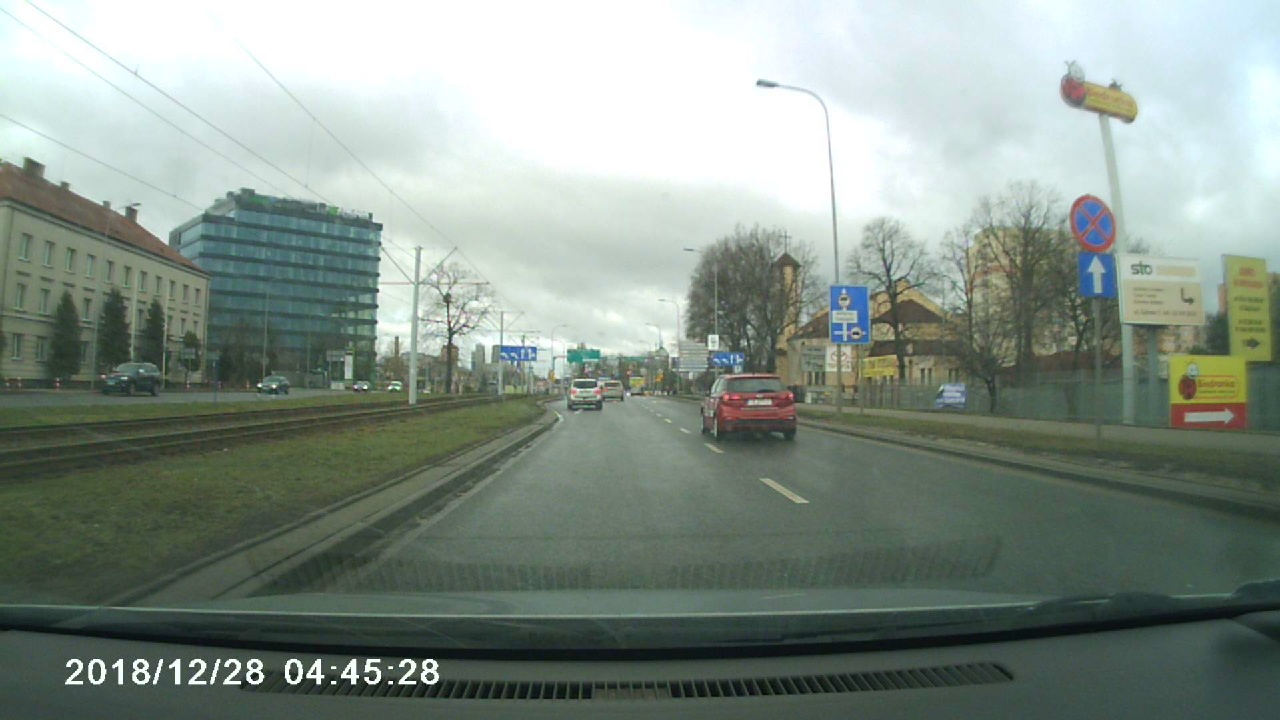B35: (1065, 191, 1120, 250)
D3: (1070, 250, 1123, 297)
